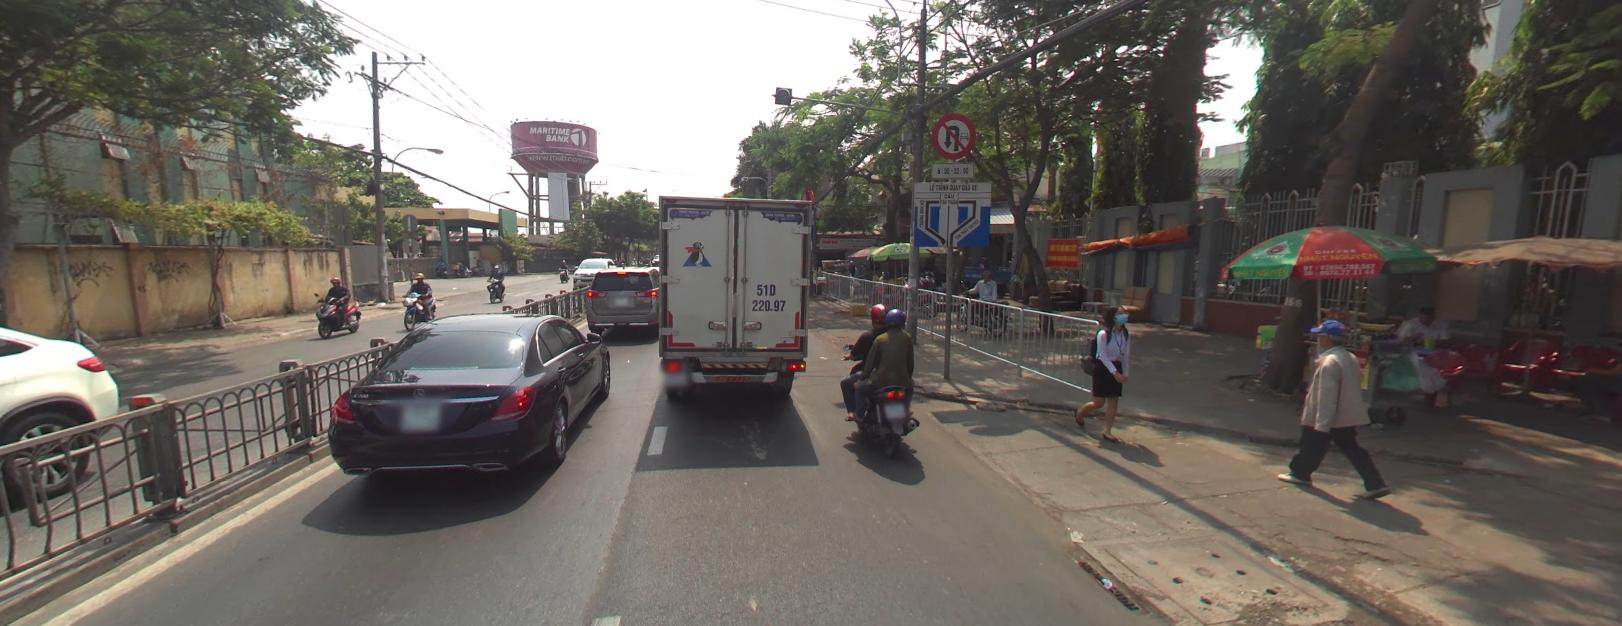Cam re: (931, 111, 974, 157)
